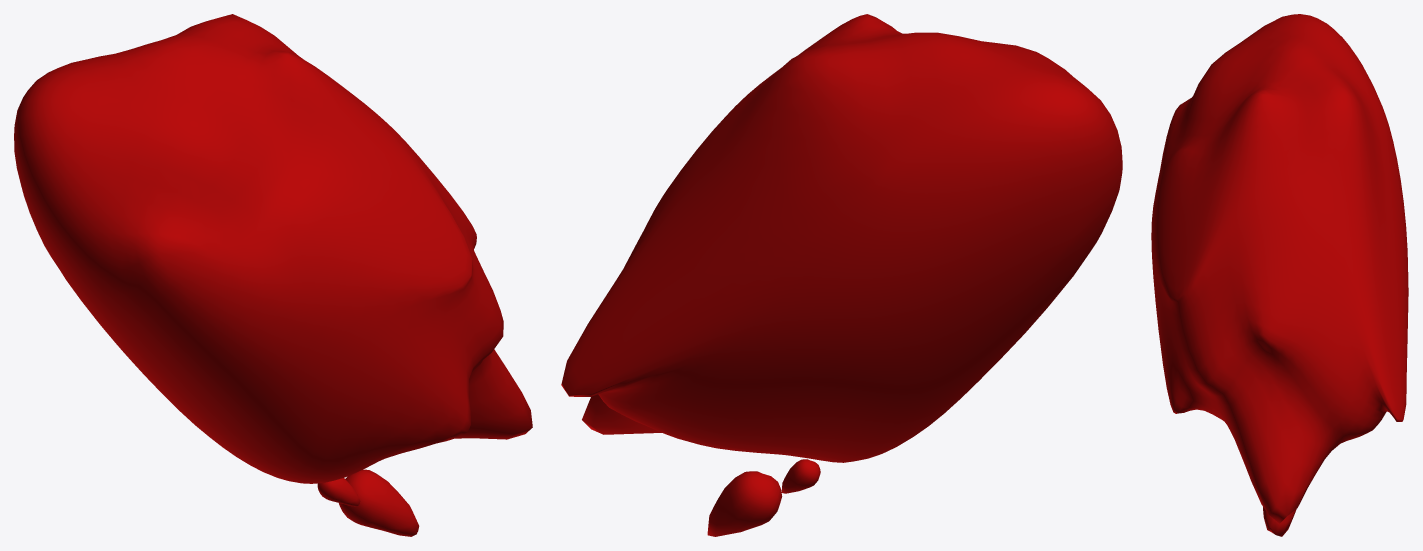
File: KETCHUP.fbx
The picture shows the model from 3 angles, left to right: view 1: azimuth 30°, elevation 25°; view 2: azimuth 150°, elevation 25°; view 3: azimuth 270°, elevation 25°; orthographic projection. The views are drawn at different scales.
Parts seen in each view (by area): view 1: pasted__BolaPrincipal1; view 2: pasted__BolaPrincipal1; view 3: pasted__BolaPrincipal1.
Boxes of the visible parts, x1,y1,x2,y2 form: pasted__BolaPrincipal1: (14, 14, 532, 536); pasted__BolaPrincipal1: (561, 14, 1122, 536); pasted__BolaPrincipal1: (1151, 14, 1408, 536).
Size of the model in its own units: 1.39 by 1.43 by 0.8224.
